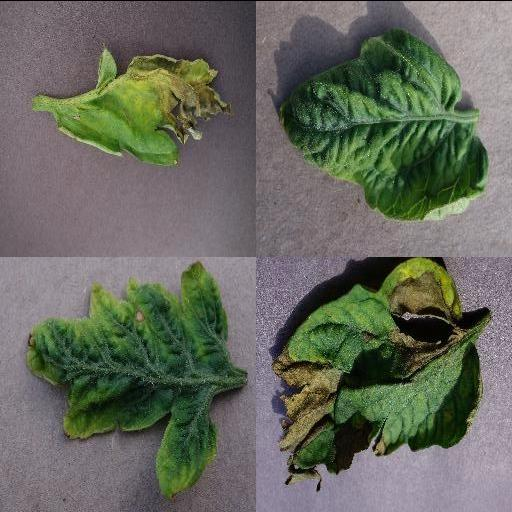Late Blight: (274, 256, 488, 490), (50, 45, 236, 165)
Yellow Leaf Curl Virus: (26, 260, 234, 496), (276, 27, 490, 221)
